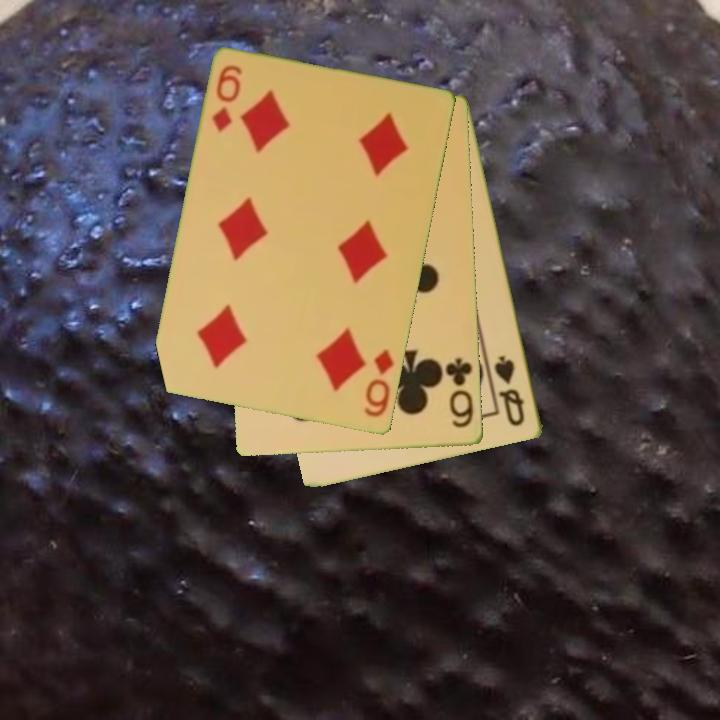6c: (443, 355, 477, 431)
6d: (361, 346, 397, 421), (209, 62, 245, 136)
Qs: (491, 352, 528, 430)
